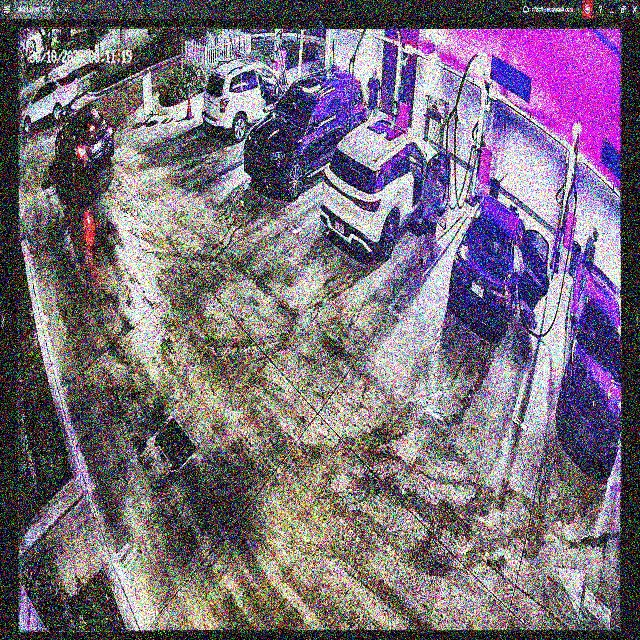Car: (323, 119, 447, 261), (245, 72, 367, 195), (449, 196, 550, 336), (202, 62, 298, 139)
